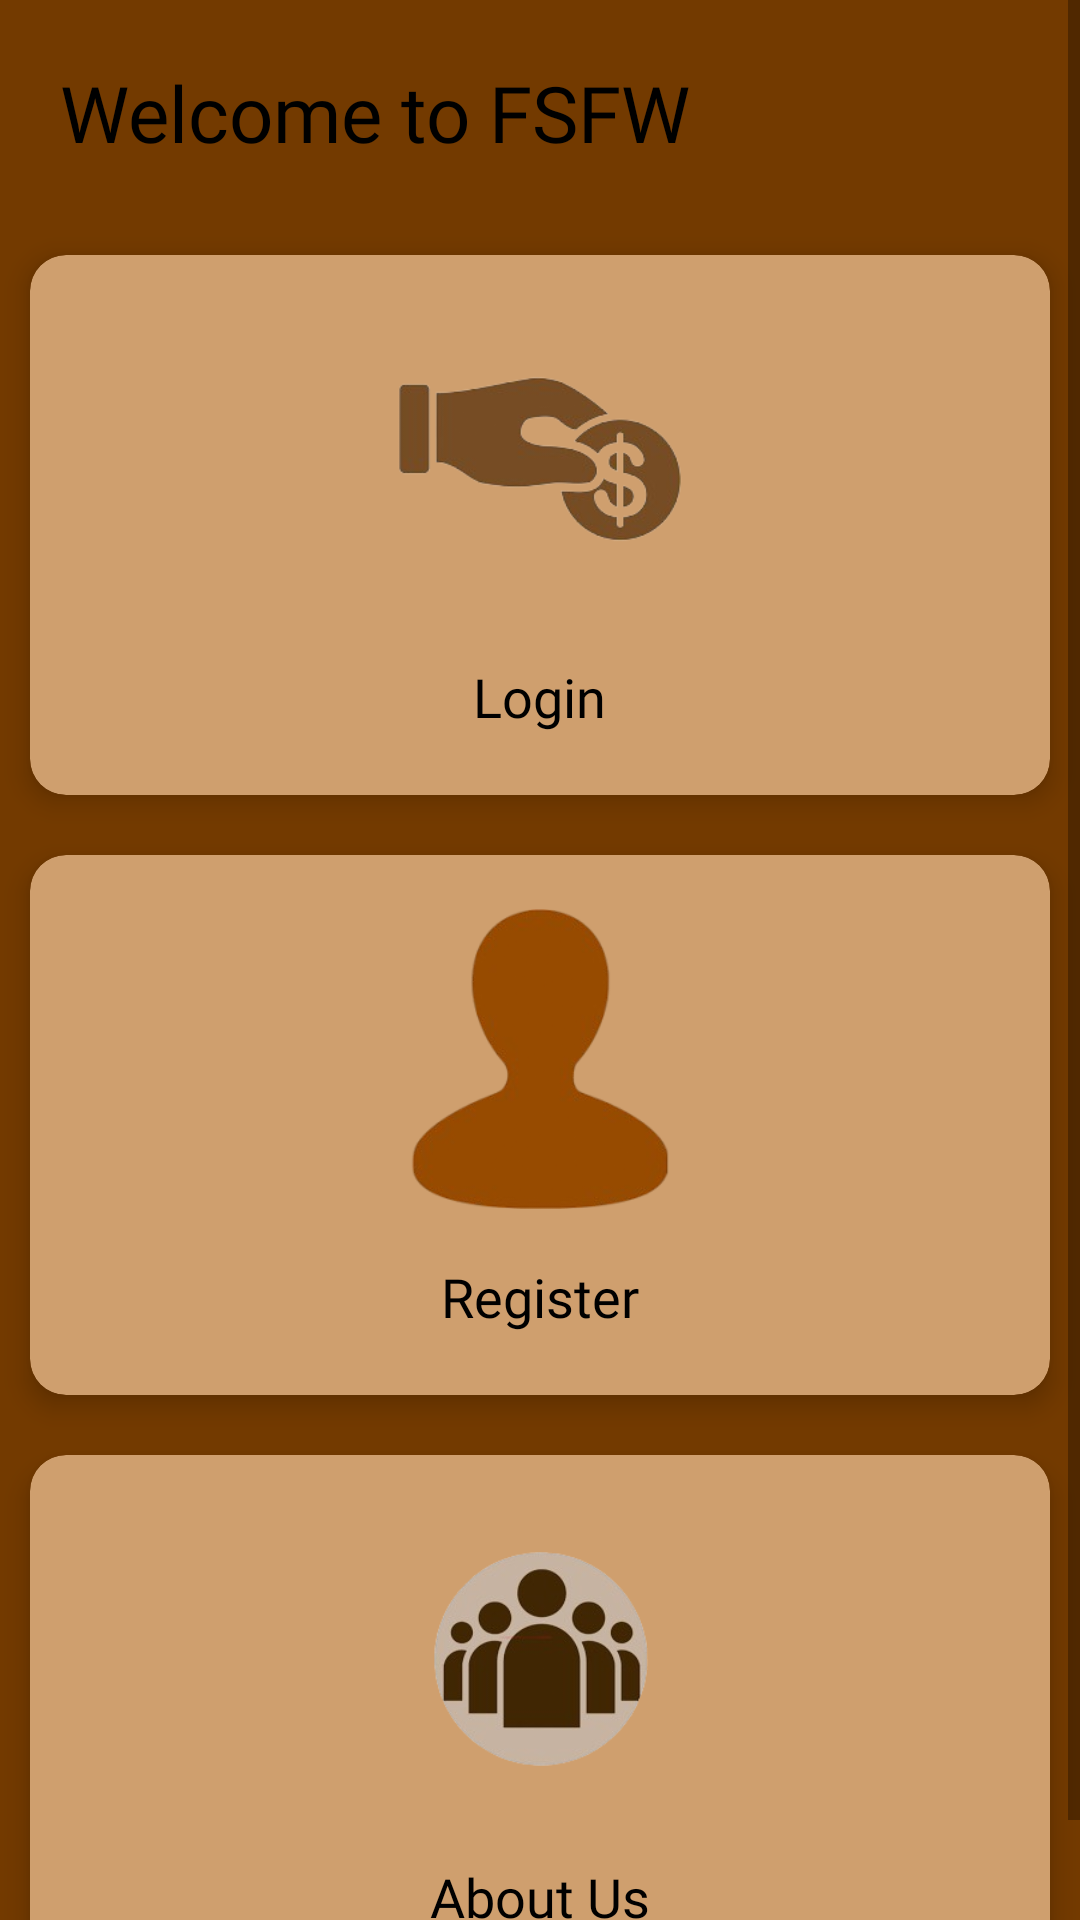

Icons on this 1080px×1920px Android screen, each with its box as (x1, y1, x2, y2):
donate: (399, 378, 681, 540)
